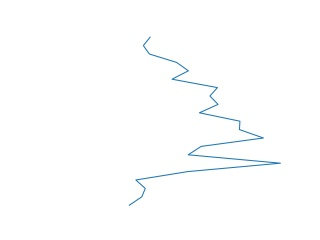floodSwamp: (126, 35, 283, 208)
